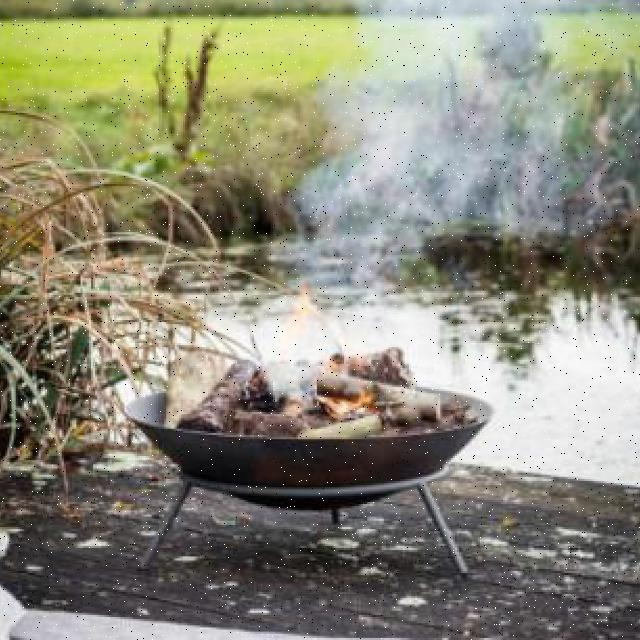fire: (311, 379, 388, 433)
smoke: (261, 0, 638, 346)
